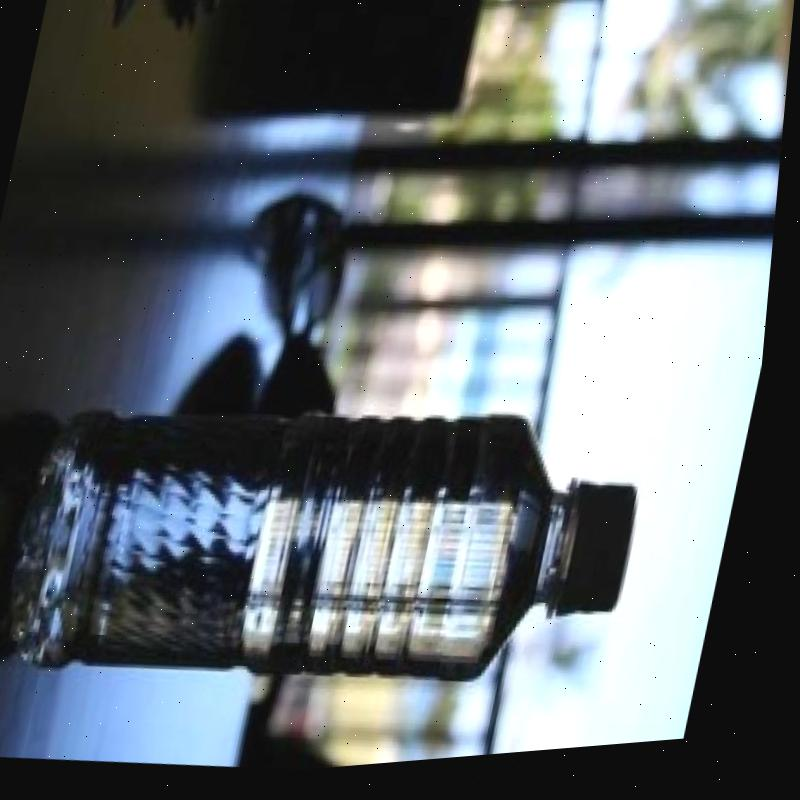botella: (0, 359, 666, 739)
